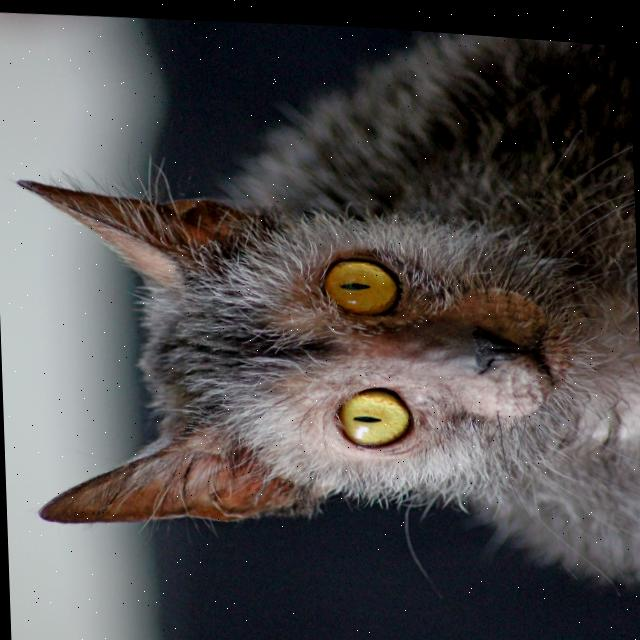Lykoi: (2, 0, 640, 608)
